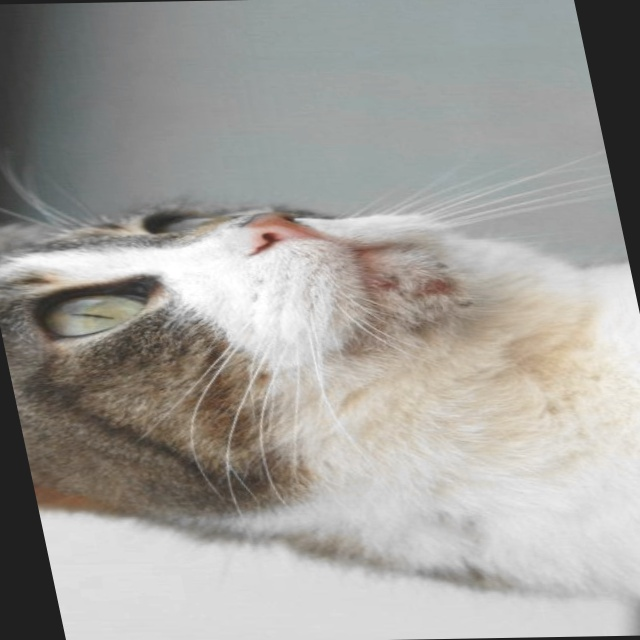acne: (365, 252, 486, 332)
